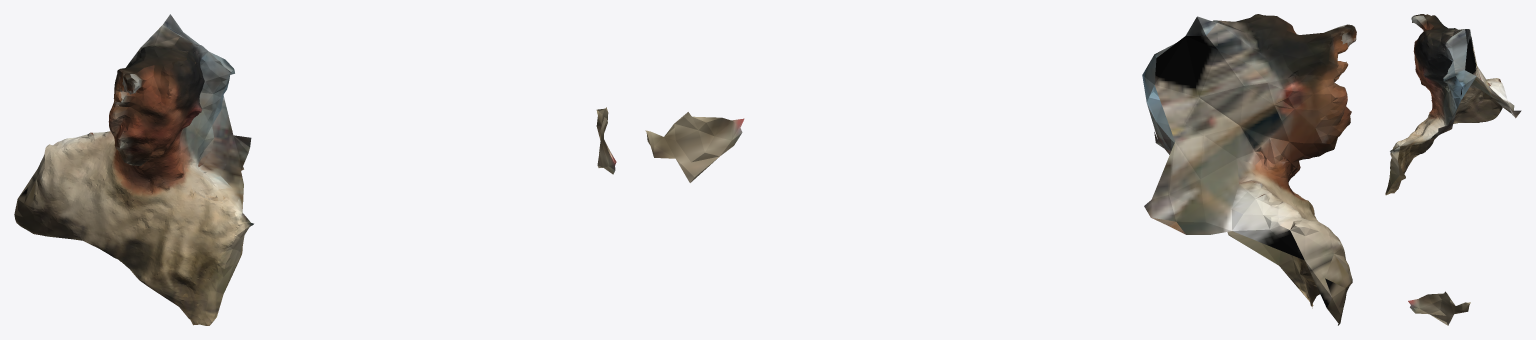
The model's file is texturedMesh.obj.
The picture shows the model from 3 angles, left to right: view 1: azimuth 30°, elevation 25°; view 2: azimuth 150°, elevation 25°; view 3: azimuth 270°, elevation 25°; orthographic projection. The views are drawn at different scales.
Bounding box in the file's own units: 1.89 × 0.8343 × 0.5897.
Materials: 1 (1 with a texture image).
